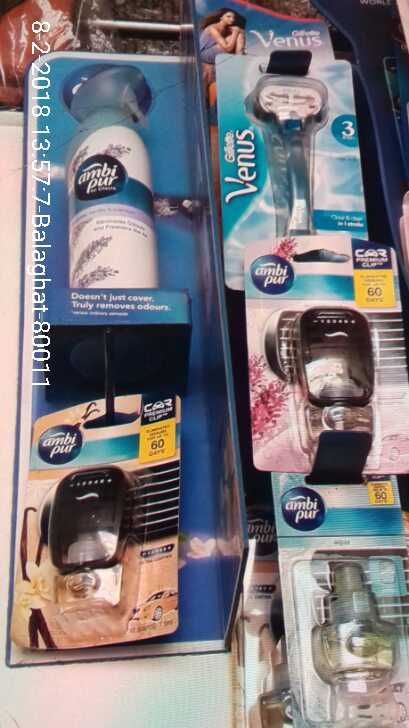beauty: (218, 51, 369, 237)
home: (20, 398, 174, 639), (267, 478, 406, 728), (249, 240, 409, 452), (58, 61, 166, 296)
